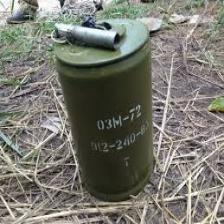OZM-72: (52, 24, 168, 207)
